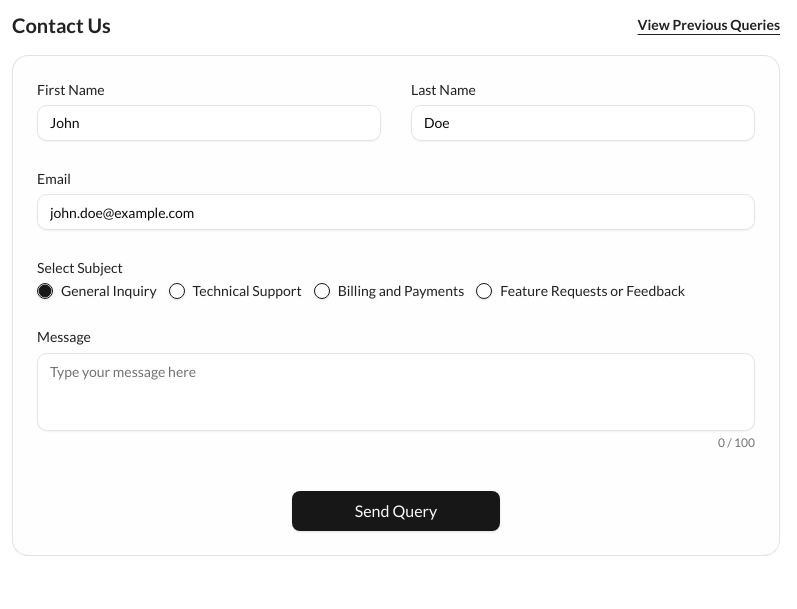
Test: ContactUs Component › Form Submission › should display error message when submission fails
In the text box labelled "Message": (396, 392) x1=37 y1=353 x2=755 y2=431, type "Test message"
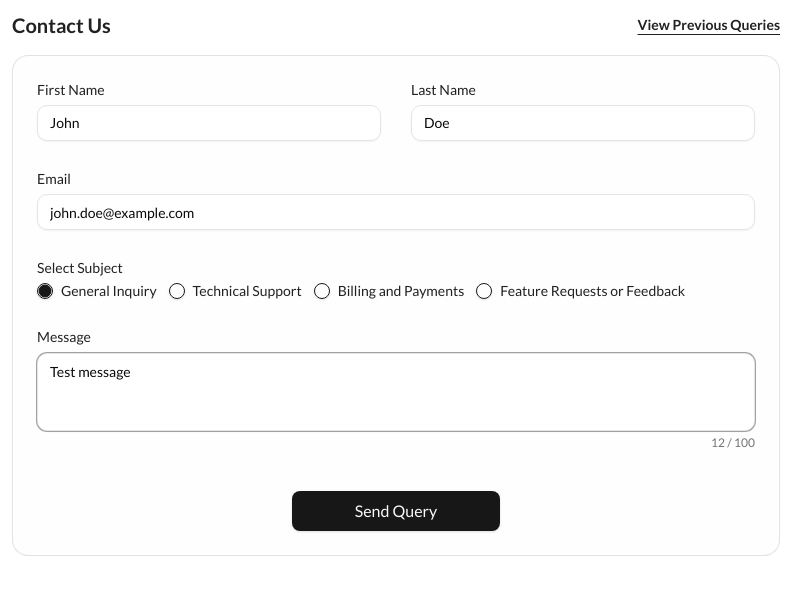
Click the button "Send Query": (396, 511) x1=292 y1=491 x2=500 y2=531
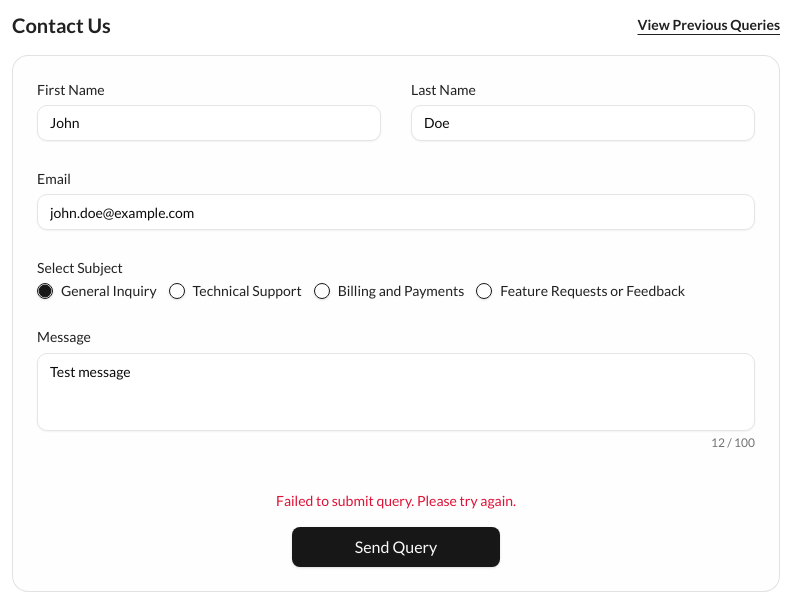
Check: the text "Failed to submit query. Please try again." is shown, box x1=276 y1=491 x2=516 y2=511
